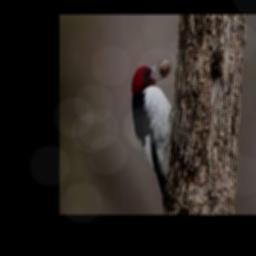Woodpecker: (131, 59, 173, 211)
